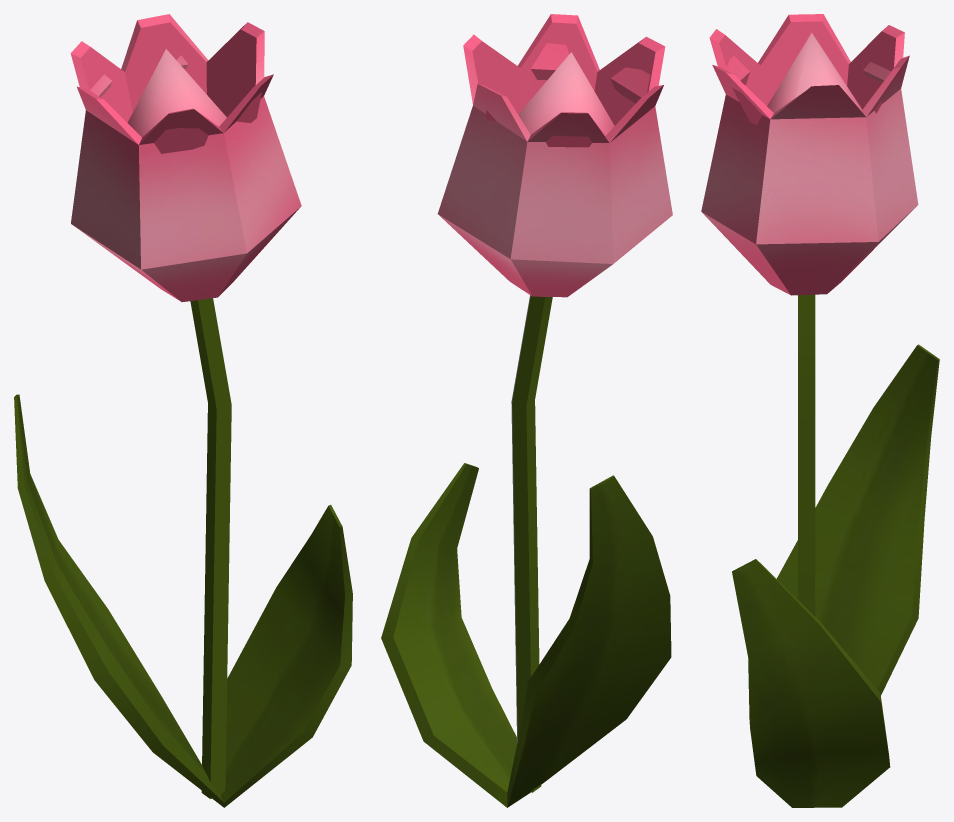
The model's file is flower_c.glb.
The picture shows the model from 3 angles, left to right: view 1: azimuth 30°, elevation 25°; view 2: azimuth 150°, elevation 25°; view 3: azimuth 270°, elevation 25°; orthographic projection.
Visible parts, largest first — view 1: tulip1:pasted__polySurface2, tulip1:sweep4, tulip1:sweep1; view 2: tulip1:sweep4, tulip1:pasted__polySurface2, tulip1:sweep1; view 3: tulip1:sweep4, tulip1:pasted__polySurface2, tulip1:sweep1.
Boxes of the visible parts, x1=… form: tulip1:pasted__polySurface2: x1=70, y1=14, x2=301, y2=302; tulip1:sweep4: x1=14, y1=394, x2=352, y2=807; tulip1:sweep1: x1=190, y1=298, x2=231, y2=798; tulip1:sweep4: x1=381, y1=463, x2=671, y2=807; tulip1:pasted__polySurface2: x1=437, y1=14, x2=672, y2=297; tulip1:sweep1: x1=511, y1=295, x2=552, y2=792; tulip1:sweep4: x1=732, y1=344, x2=939, y2=807; tulip1:pasted__polySurface2: x1=701, y1=14, x2=918, y2=295; tulip1:sweep1: x1=798, y1=294, x2=815, y2=616.
Size of the model in its own units: 0.0593 by 0.1588 by 0.0457.
3 materials, 3 textured.
